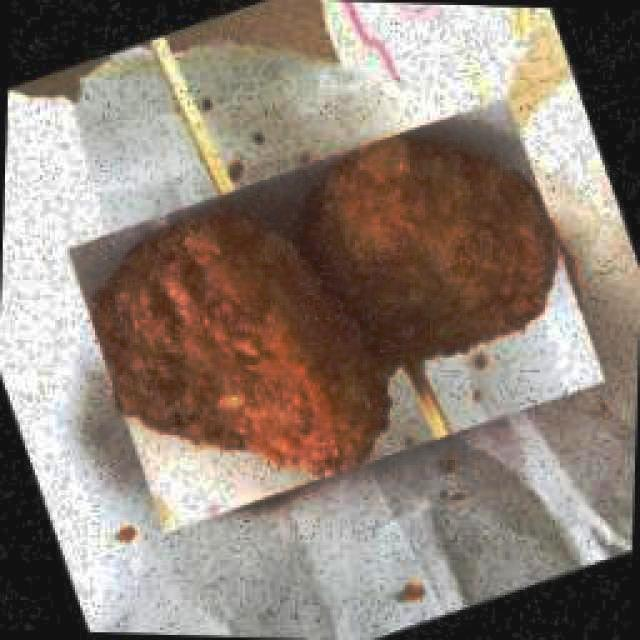Hashbrown: (93, 212, 393, 472), (318, 140, 556, 371)
